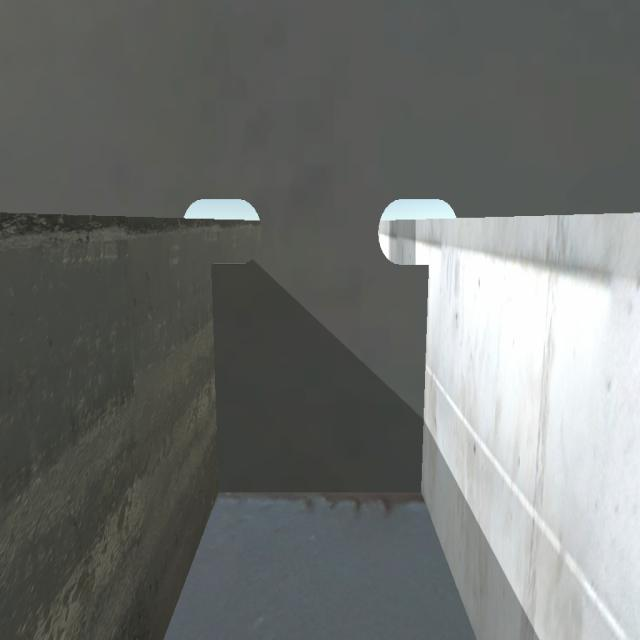fillet_hole: (214, 480, 426, 503)
fillet_yong_jeop_jang: (205, 264, 226, 492)
